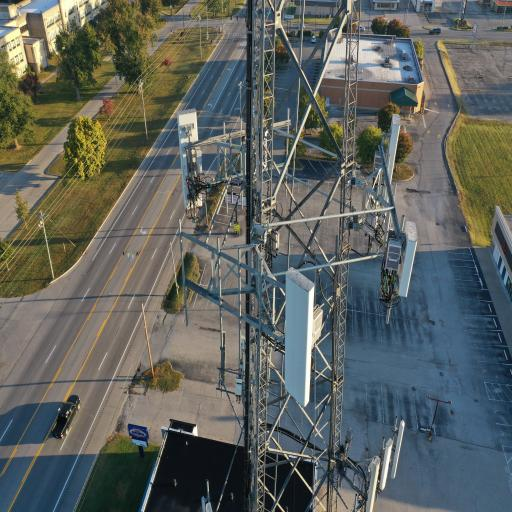supporting_tower: (182, 0, 448, 512)
